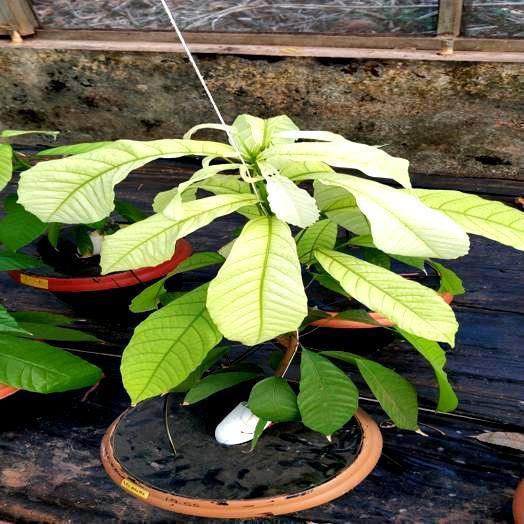Healthy Leaf: (323, 351, 416, 428), (0, 336, 101, 393), (131, 252, 224, 311), (297, 350, 357, 436), (397, 329, 457, 410), (0, 195, 46, 250), (184, 371, 256, 404), (248, 376, 298, 421), (358, 247, 390, 268)
Iron: (19, 140, 236, 222), (316, 249, 457, 345), (207, 216, 306, 345), (320, 175, 467, 258), (121, 285, 221, 404), (102, 196, 253, 273), (259, 140, 410, 187), (416, 189, 523, 250), (231, 114, 298, 158), (314, 181, 370, 233), (267, 174, 319, 228), (158, 171, 213, 217), (297, 219, 337, 265), (280, 161, 333, 182), (200, 174, 249, 194)
